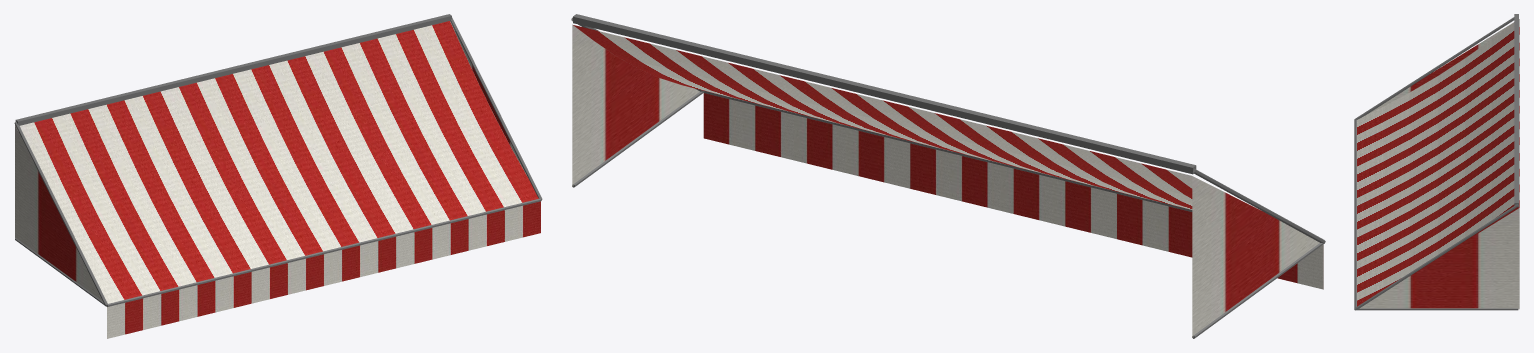
Rendered from awning_canvas_red.glb.
3 renders of one model, left to right at view 1: azimuth 30°, elevation 25°; view 2: azimuth 150°, elevation 25°; view 3: azimuth 270°, elevation 25°, orthographic. The views are drawn at different scales.
Parts seen in each view (by area): view 1: awning_canvas_red; view 2: awning_canvas_red; view 3: awning_canvas_red.
Boxes of the visible parts, x1,y1,x2,y2 form: awning_canvas_red: (14,14,542,338); awning_canvas_red: (571,14,1325,338); awning_canvas_red: (1354,14,1519,310).
Size of the model in its own units: 3.02 by 1.01 by 1.11.
Materials: 2 (1 with a texture image).
